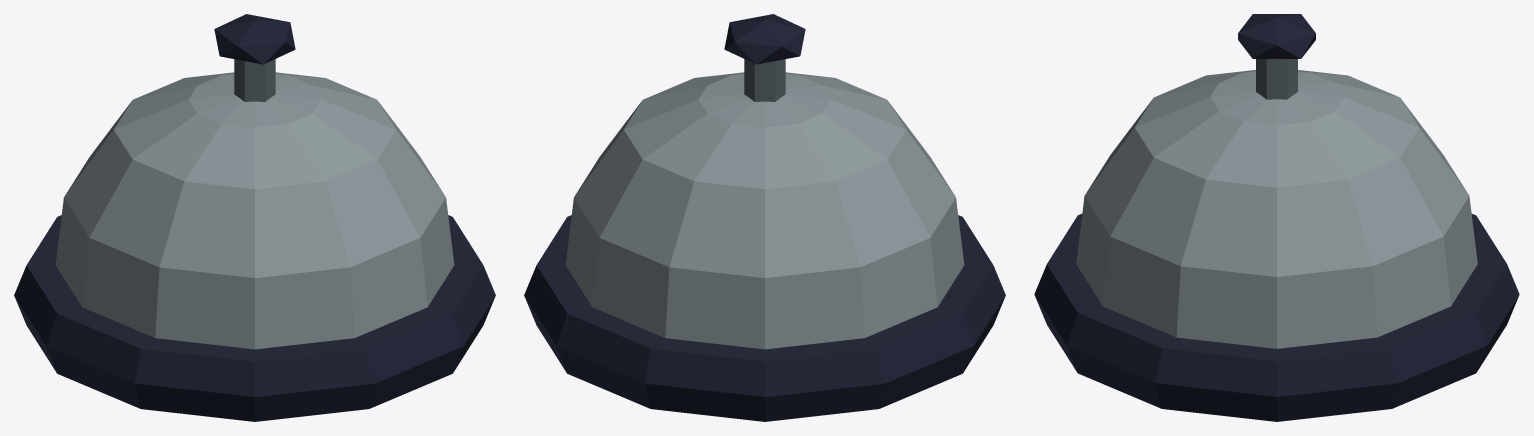
The model's file is sm_env_depot_service_bell.glb.
3 views of the same model, side by side, from view 1: azimuth 30°, elevation 25°; view 2: azimuth 150°, elevation 25°; view 3: azimuth 270°, elevation 25° (orthographic).
Parts seen in each view (by area): view 1: Dome, BellBase, Button, Plunger; view 2: Dome, BellBase, Button, Plunger; view 3: Dome, BellBase, Button, Plunger.
Part boxes in pixels (<box>): Dome: <box>55,72,454,349</box>; BellBase: <box>14,215,495,421</box>; Button: <box>214,14,295,64</box>; Plunger: <box>234,59,275,101</box>; Dome: <box>565,72,964,349</box>; BellBase: <box>524,215,1005,421</box>; Button: <box>724,14,805,64</box>; Plunger: <box>744,59,785,101</box>; Dome: <box>1076,70,1477,348</box>; BellBase: <box>1034,214,1519,421</box>; Button: <box>1238,14,1315,58</box>; Plunger: <box>1256,59,1297,99</box>.
Size of the model in its own units: 0.116 by 0.081 by 0.116.
